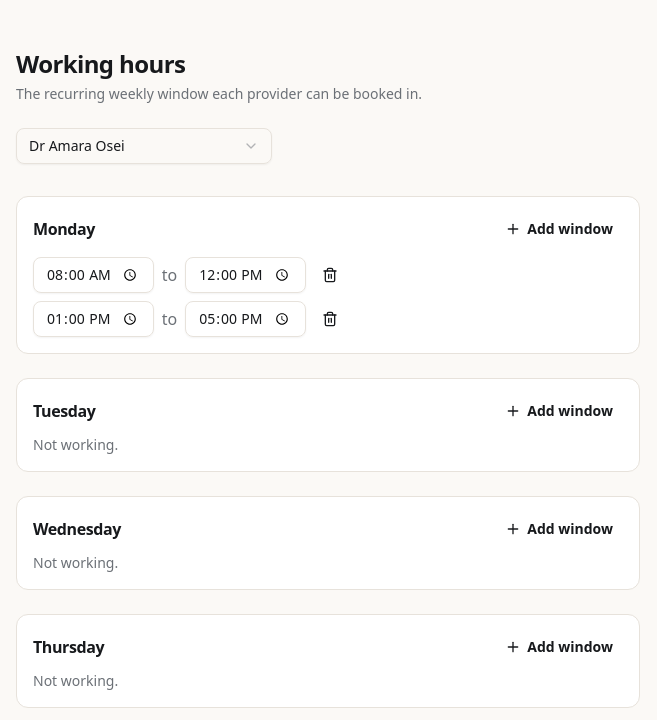
Test case: editing › adding a window enables Save, and Save sends the whole week
The image size is (657, 720).
Click the button "Add window" in the row of "Tuesday". click: (559, 411)
box: [495, 395, 623, 427]
(page scrolled)
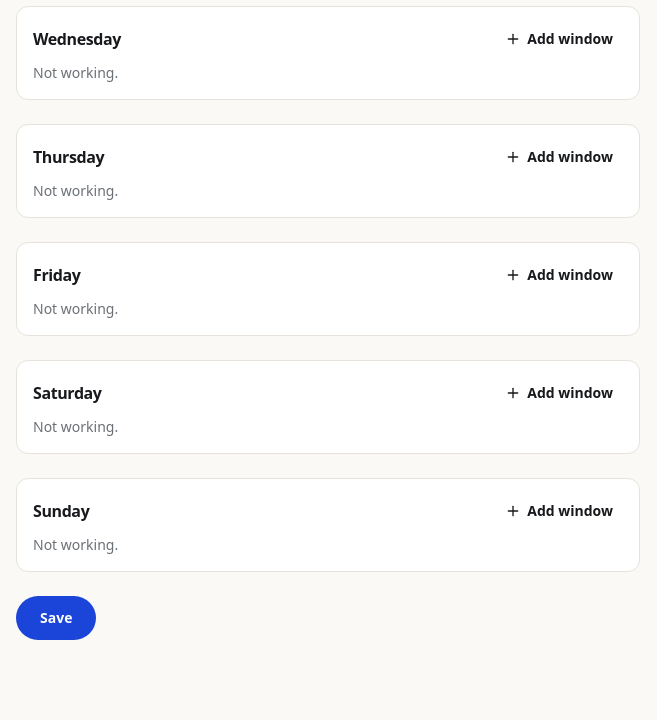
Now the button "Save" is enabled
Click the button "Save". click: (56, 618)
box: [16, 596, 96, 640]
(page scrolled)
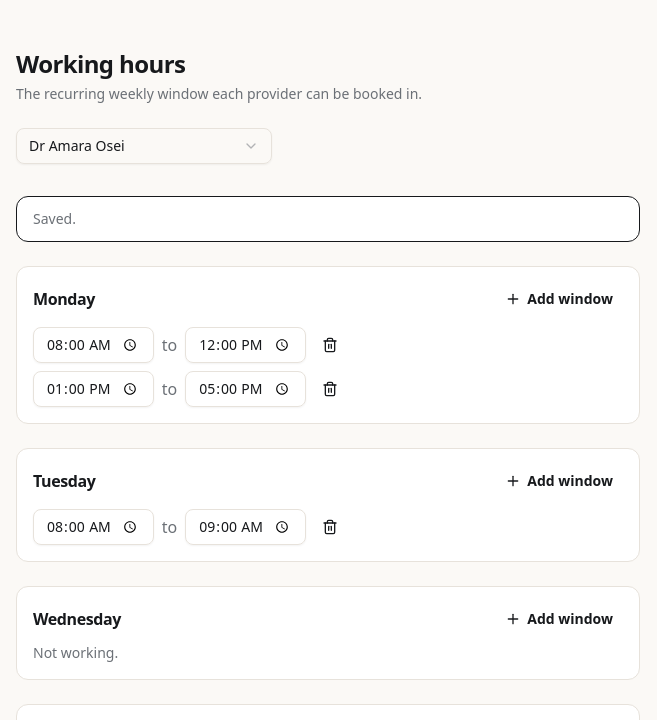
Now the text "Saved." is shown, box [33, 209, 76, 228]
